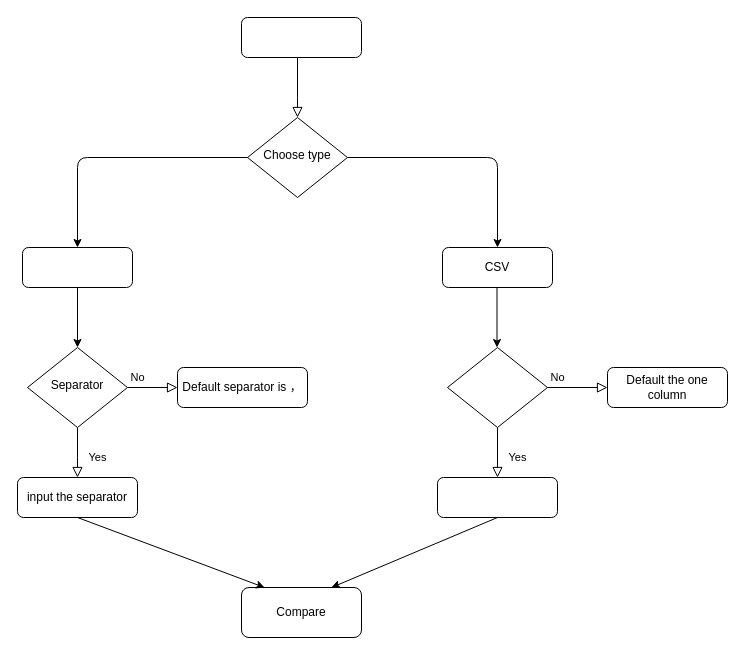
This 745x655 diagram has some shape labels left out. Each missing label, with the centre of its shape:
"Column" belongs at point 497,387.
"input the column" belongs at point 497,497.
"Open XXX" belongs at point 301,37.
"TXT" belongs at point 77,267.
